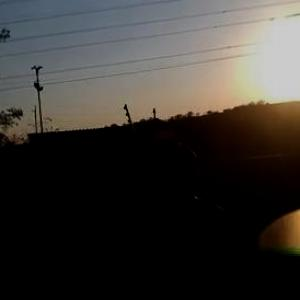follow: (137, 137, 244, 299)
